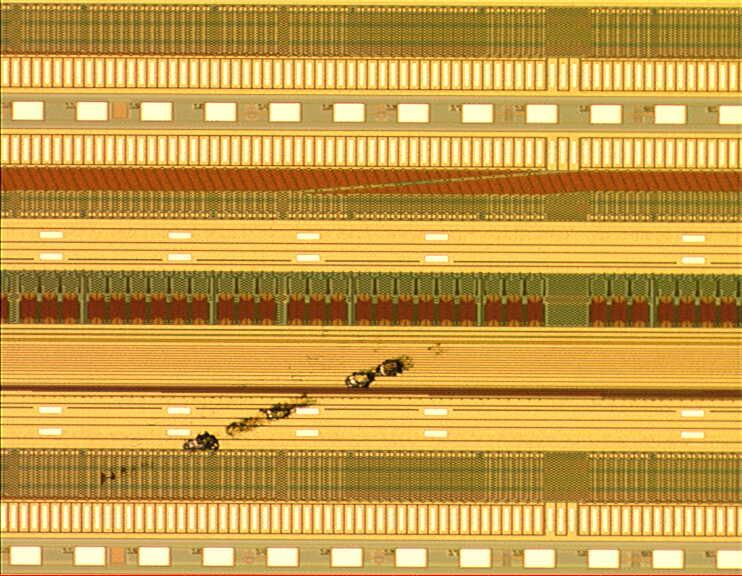SCRATCH: (92, 328, 471, 493)
